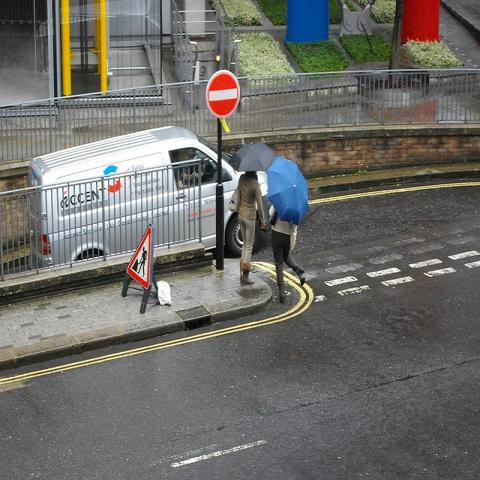truck: (28, 126, 268, 270)
